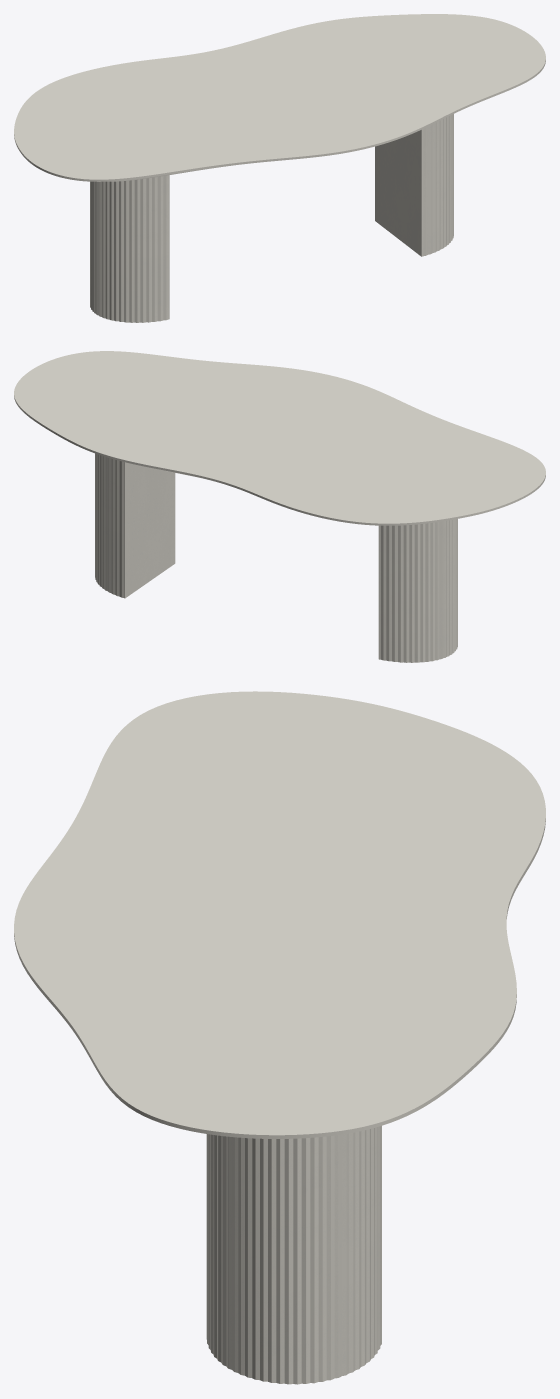
File: pale_toplast_facet_flute.glb
The picture shows the model from 3 angles, top to bottom: view 1: azimuth 30°, elevation 25°; view 2: azimuth 150°, elevation 25°; view 3: azimuth 270°, elevation 25°; orthographic projection. The views are drawn at different scales.
Visible parts, largest first — view 1: facet_toplast, flute; view 2: facet_toplast, flute; view 3: facet_toplast, flute.
Boxes of the visible parts, <box> form: facet_toplast: <box>14,14,545,181</box>; flute: <box>90,114,453,322</box>; facet_toplast: <box>14,351,545,525</box>; flute: <box>95,453,457,662</box>; facet_toplast: <box>14,691,545,1138</box>; flute: <box>206,1126,381,1384</box>.
Bounding box in the file's own units: 7.5 × 2.5 × 3.8.
1 material, 1 textured.
